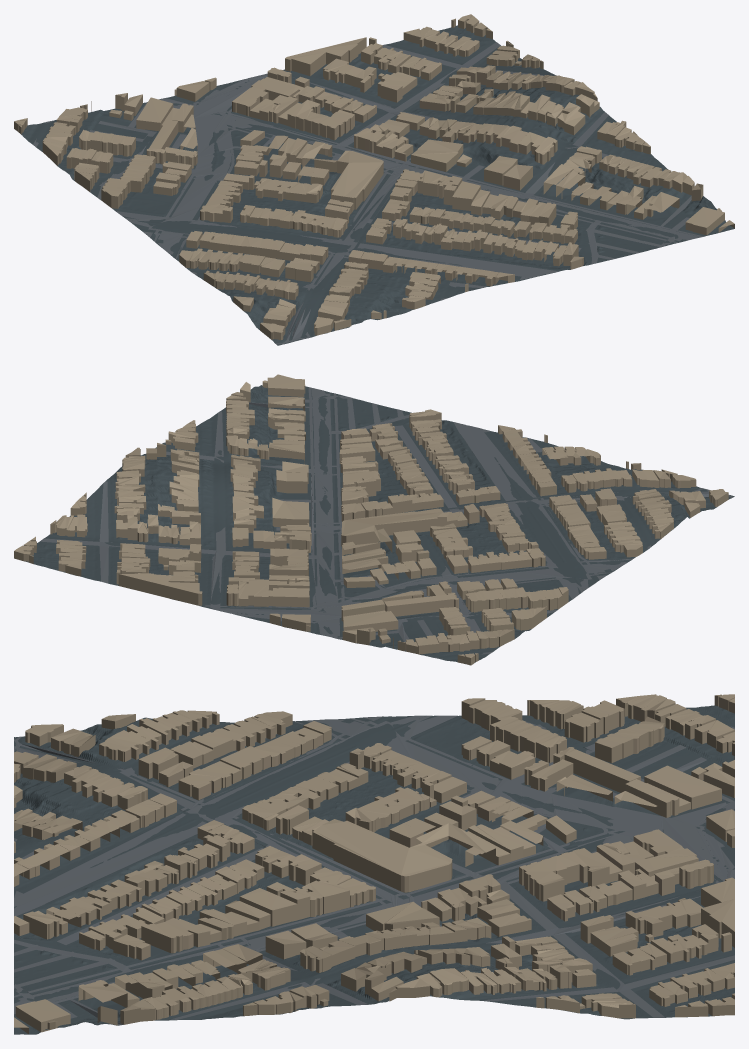
File: epsg26910-1430-10871.lod0.glb
3 views of the same model, one above another, from view 1: azimuth 30°, elevation 25°; view 2: azimuth 150°, elevation 25°; view 3: azimuth 270°, elevation 25° (orthographic). The views are drawn at different scales.
Parts seen in each view (by area): view 1: epsg26910-1430-10871-lod0; view 2: epsg26910-1430-10871-lod0; view 3: epsg26910-1430-10871-lod0.
Part boxes in pixels (x1,y1,x2,y2): epsg26910-1430-10871-lod0: (14, 14, 734, 345); epsg26910-1430-10871-lod0: (14, 374, 734, 665); epsg26910-1430-10871-lod0: (14, 694, 734, 1034).
Size of the model in its own units: 384 by 34.12 by 384.
